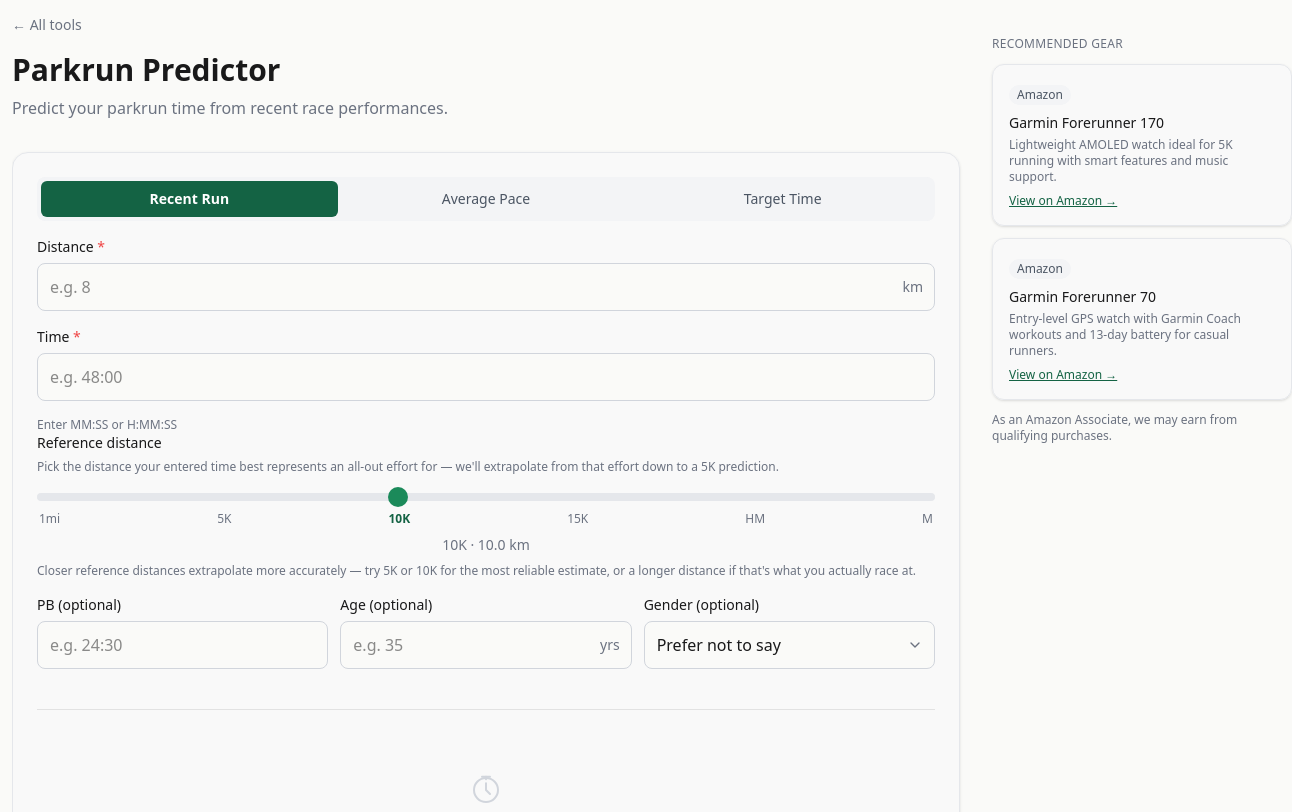
it: Parkrun page › Average Pace mode produces a prediction from pace alone
The image size is (1292, 812).
Click the tab "Average Pace".
click(486, 199)  # box x1=338 y1=181 x2=634 y2=217
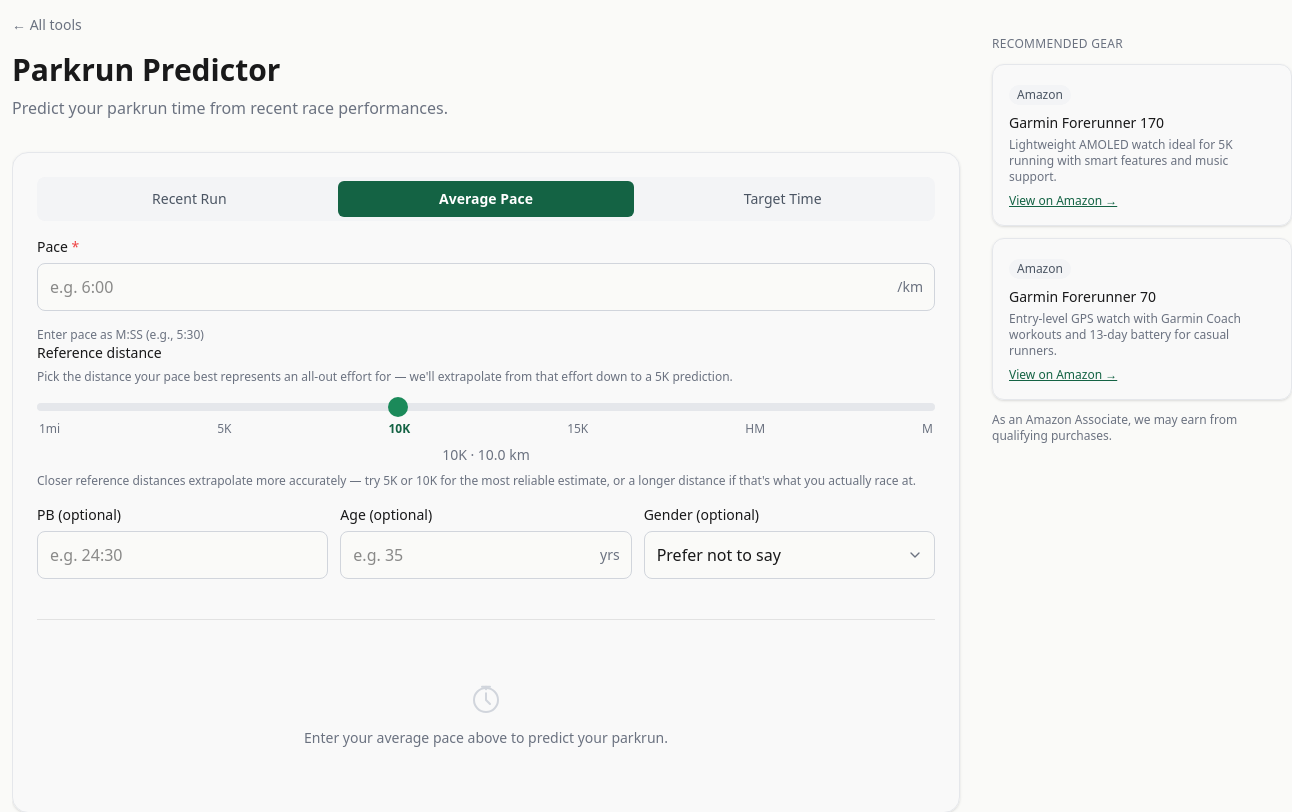
Type "6:00" into the field labelled "Pace *".
click(486, 287); type("6:00")  # box x1=37 y1=263 x2=935 y2=311
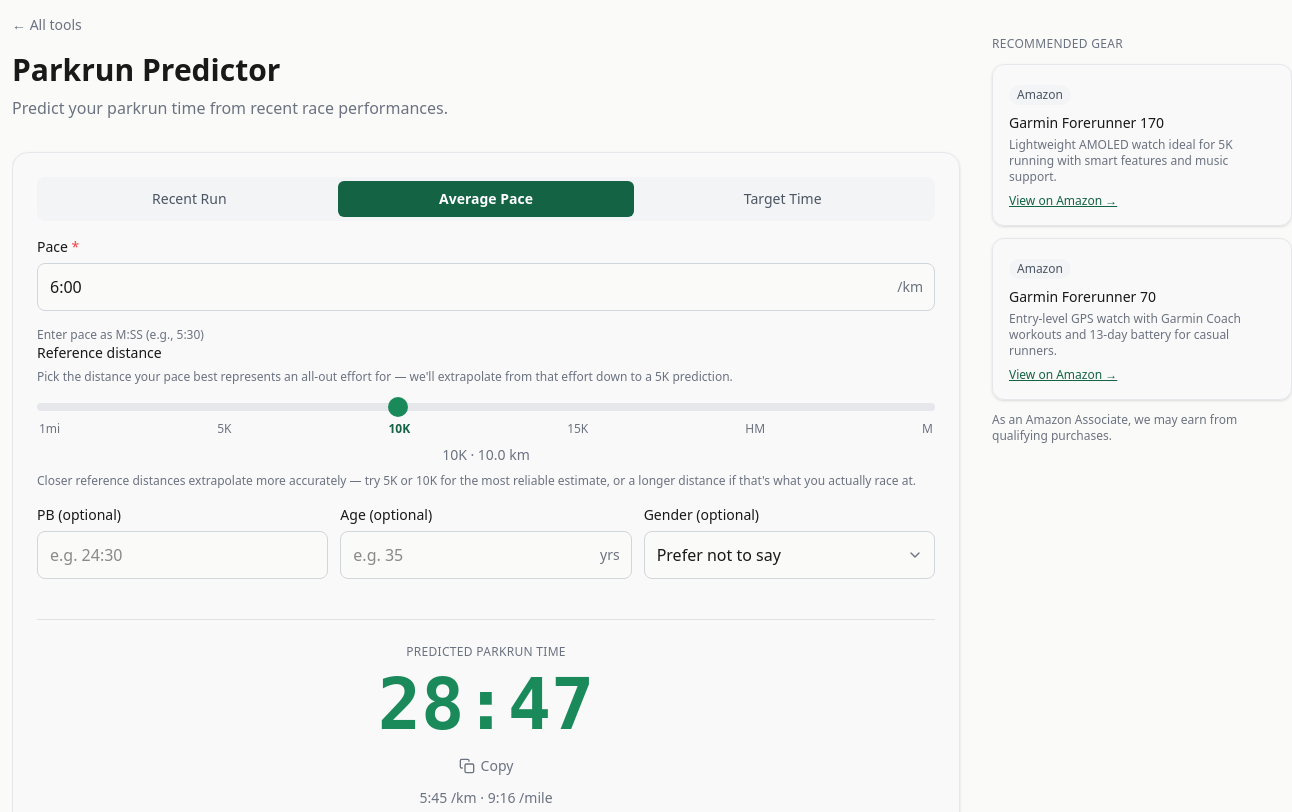
Now the text "Predicted Parkrun Time" is shown, box x1=406 y1=644 x2=566 y2=660
